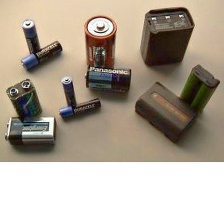battery: (79, 11, 116, 77), (1, 113, 58, 149), (3, 75, 45, 122), (81, 63, 134, 97), (18, 38, 65, 74), (177, 63, 202, 118), (189, 76, 219, 121), (57, 95, 105, 120), (19, 17, 42, 59), (59, 72, 82, 105)
